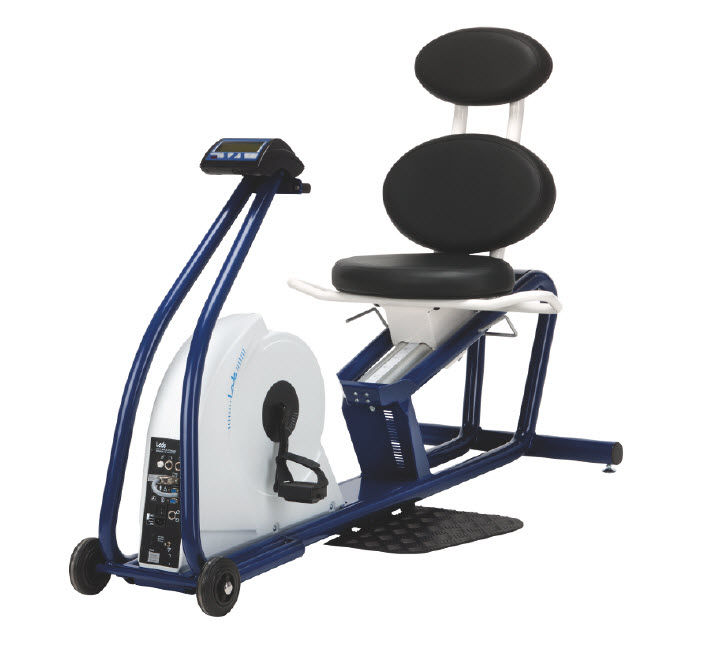gym_bike: (73, 11, 635, 642)
